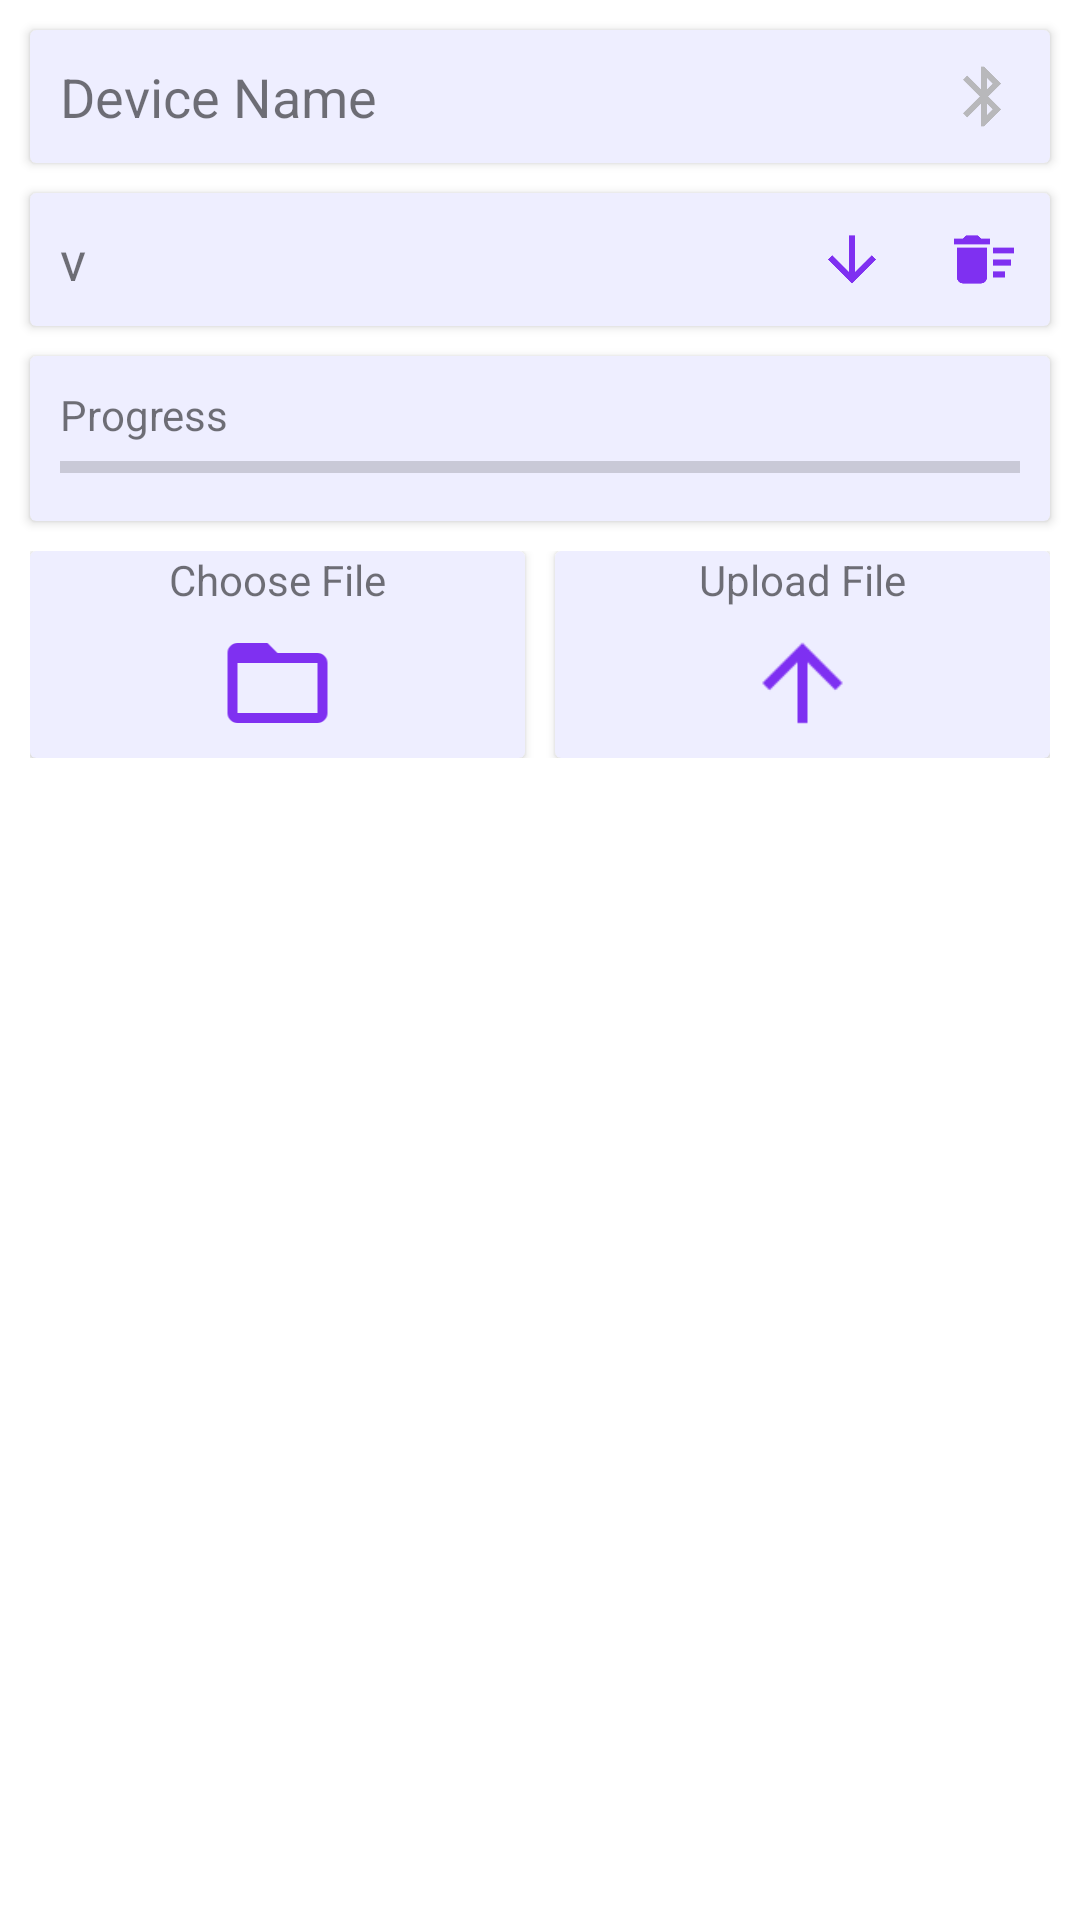

Screen size 1080x1920. Icon name, then its center in pixels as (x,y):
download: (852,259)
format: (984,259)
